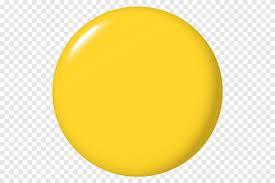yellow_circle: (49, 4, 225, 180)
